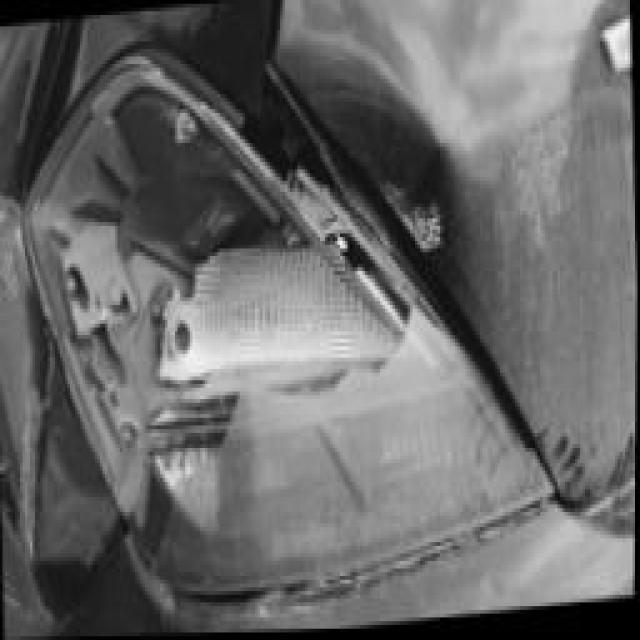Dickey: (315, 0, 602, 221)
Door: (40, 94, 456, 583)
